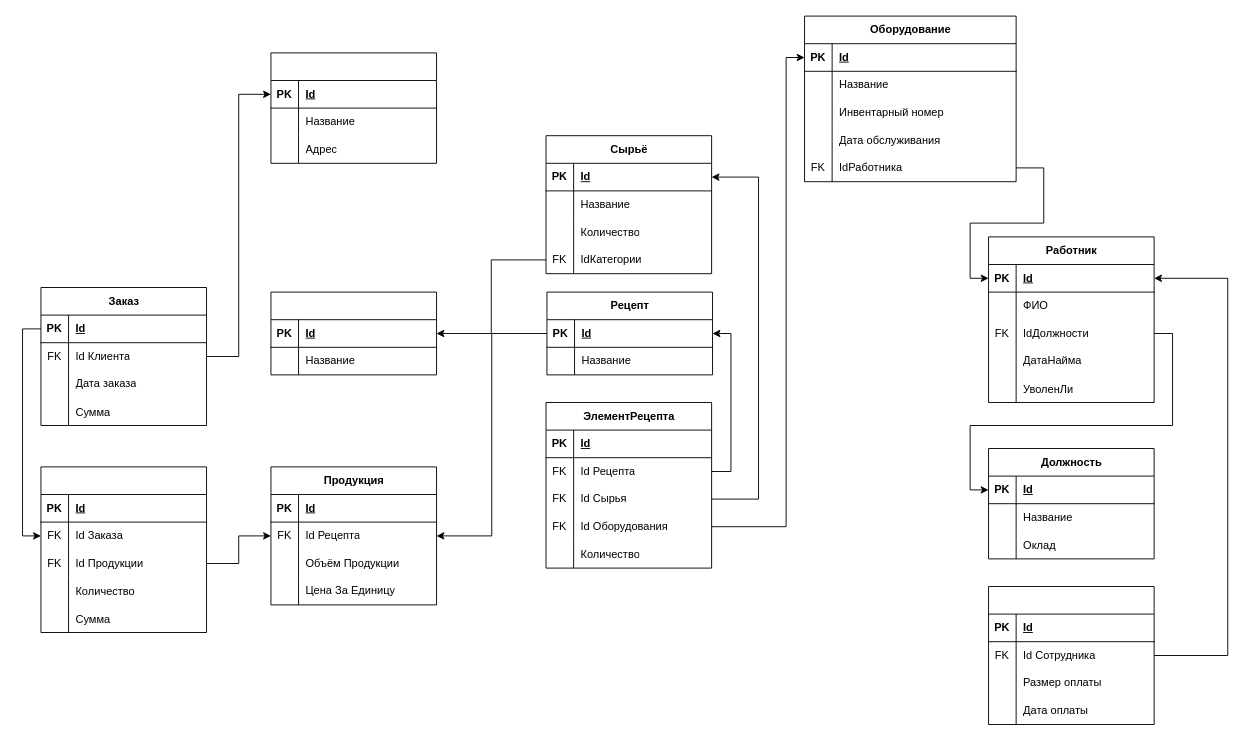
Some shapes in this 1251 by 741 pixel diagram are drawn without their labels. Here are the shapes that lost their labels. From the top down, the box of each, then its label:
(270, 52, 437, 163): Клиент
(270, 291, 437, 375): Категория Сырья
(40, 466, 207, 632): ЭлементЗаказа
(988, 586, 1154, 724): Зарплата
